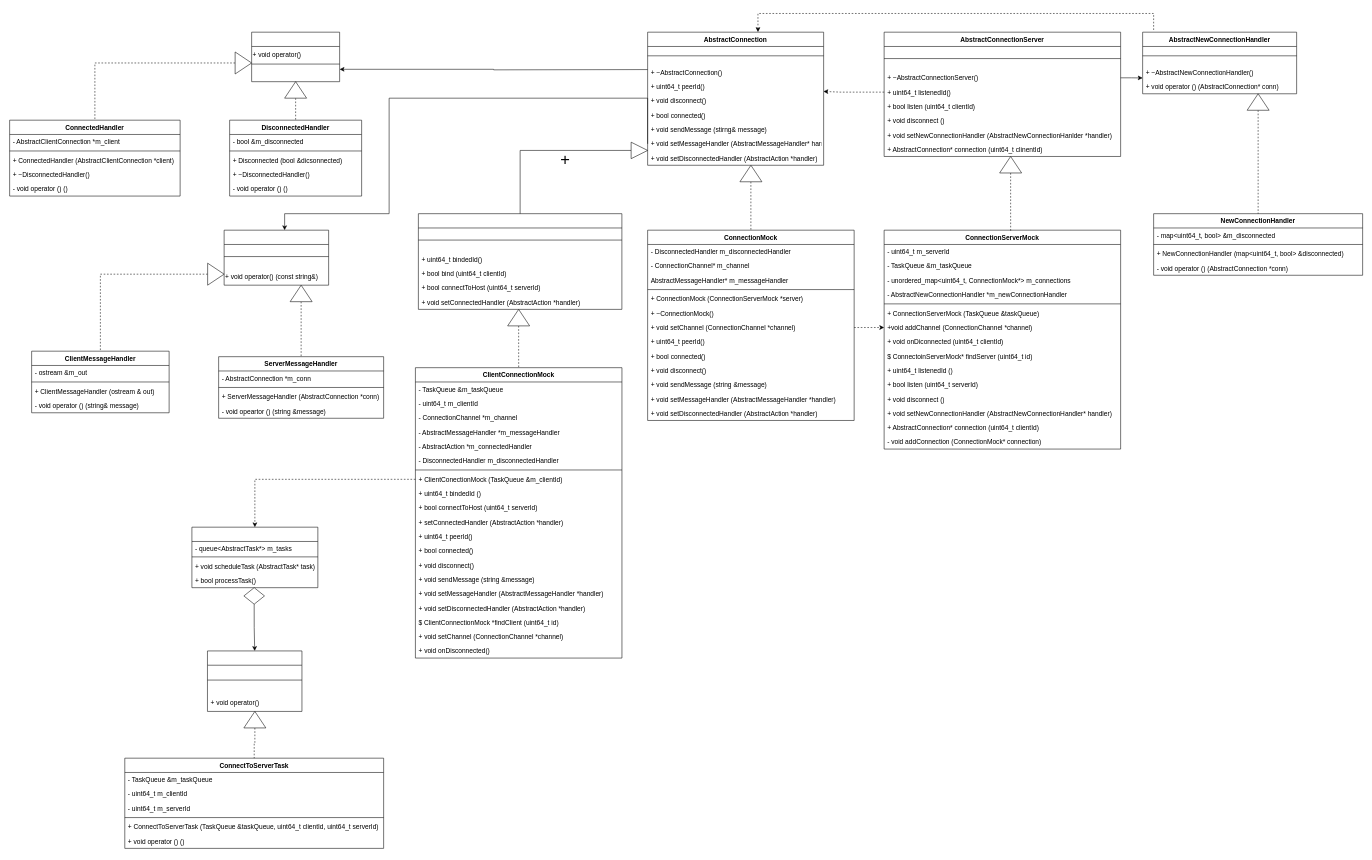
Image size: 1372x860. Some labels were removed from this diagram. The box of each missing label's shape, as (x1, y1, x2, y2) in pixels:
AbstractAction: (251, 32, 340, 82)
AbstractClientConnection: (418, 213, 622, 309)
AbstractMessageHandler: (224, 230, 329, 285)
AbstractTask: (207, 650, 302, 711)
TaskQueue: (191, 527, 318, 588)
